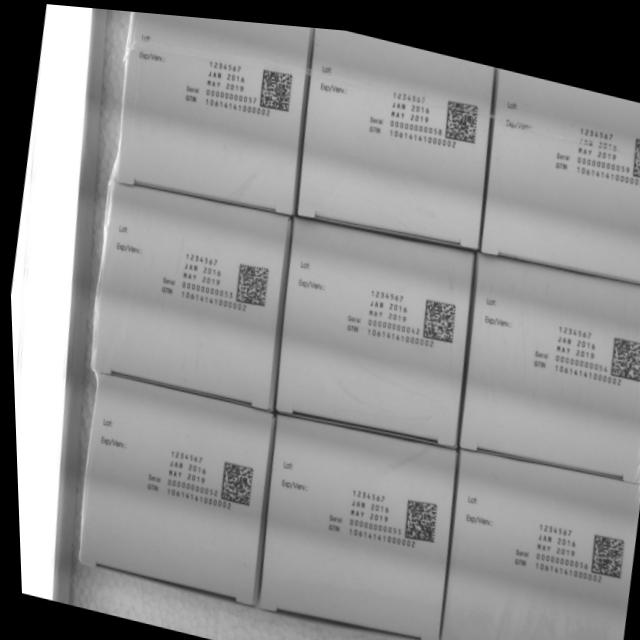datamatrix: (257, 60, 299, 112), (584, 520, 626, 572), (442, 90, 483, 142), (398, 488, 439, 540), (215, 454, 256, 506), (231, 255, 272, 306), (417, 288, 458, 339), (605, 324, 640, 375), (628, 122, 640, 172)
